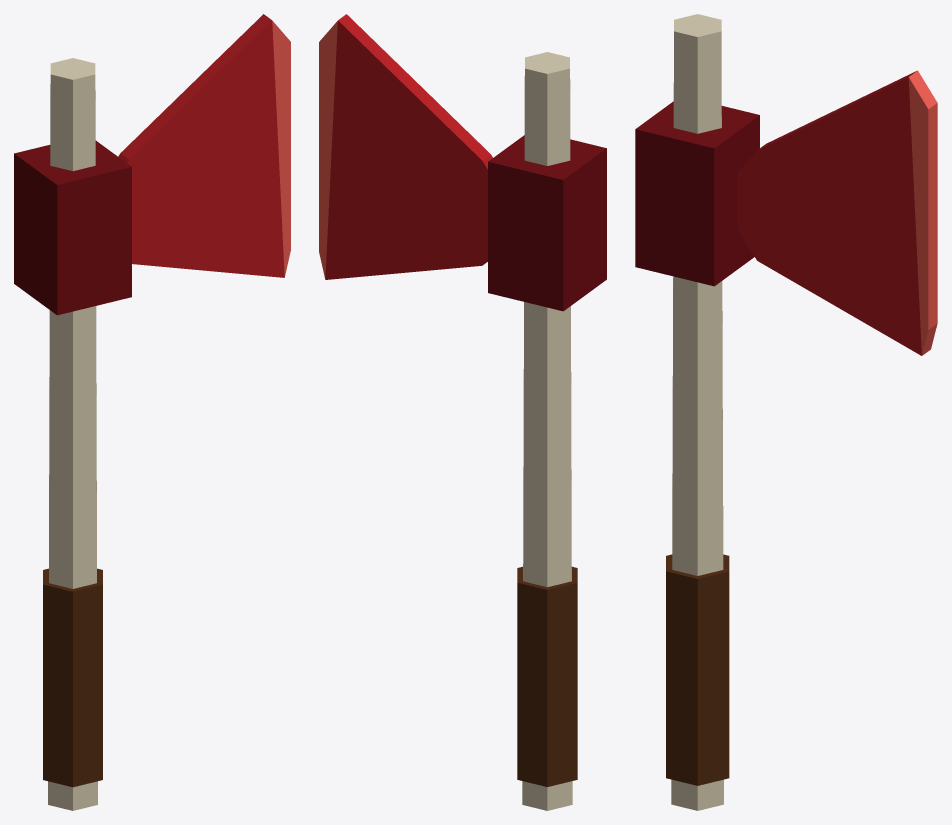
File: wpn_melee_1h_8.glb
3 renders of one model, left to right at view 1: azimuth 30°, elevation 25°; view 2: azimuth 150°, elevation 25°; view 3: azimuth 330°, elevation 25°, orthographic. The views are drawn at different scales.
Visible parts, largest first — view 1: wpn_melee_1h_8; view 2: wpn_melee_1h_8; view 3: wpn_melee_1h_8.
Boxes of the visible parts, x1,y1,x2,y2 form: wpn_melee_1h_8: (14, 14, 290, 810); wpn_melee_1h_8: (319, 14, 606, 810); wpn_melee_1h_8: (635, 14, 937, 810).
Size of the model in its own units: 0.205 by 0.56 by 0.06.
